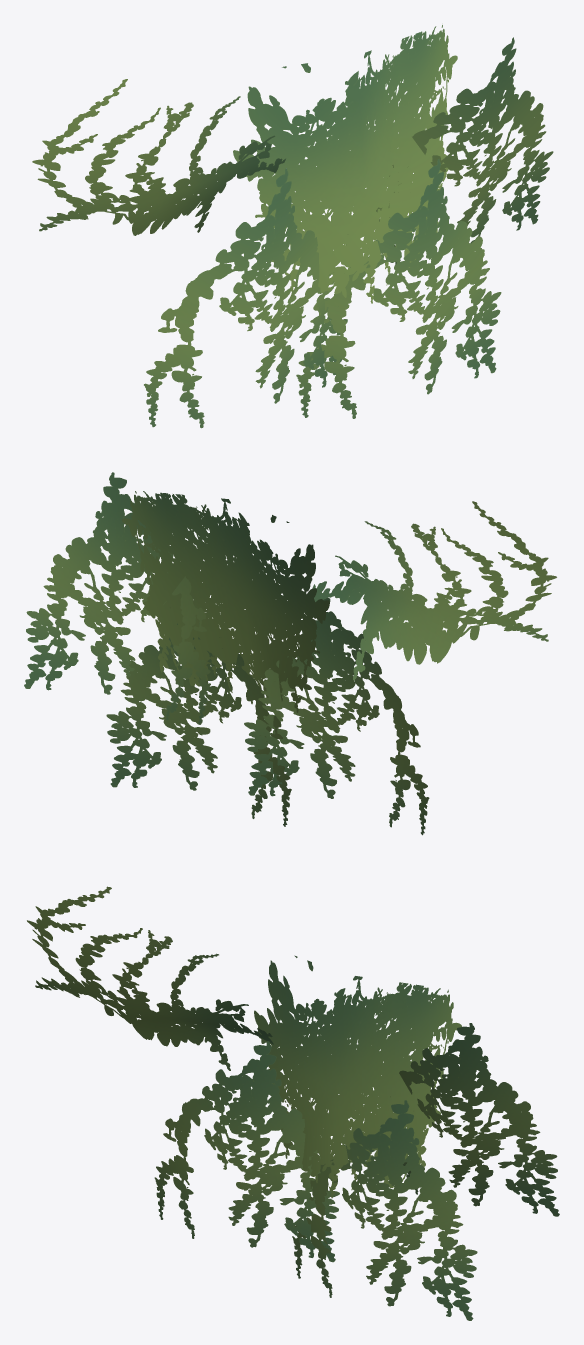
The model's file is vineA.fbx.
The picture shows the model from 3 angles, top to bottom: view 1: azimuth 30°, elevation 25°; view 2: azimuth 150°, elevation 25°; view 3: azimuth 330°, elevation 25°; orthographic projection. The views are drawn at different scales.
Visible parts, largest first — view 1: vine1, vine4, vine, vine2, vine5; view 2: vine1, vine5, vine, vine2, vine4; view 3: vine1, vine4, vine, vine5, vine2.
Part boxes in pixels (x1,y1,x2,y2): vine1: (233,25,457,303); vine4: (296,159,501,418); vine: (144,168,347,428); vine2: (32,79,285,235); vine5: (376,37,553,264); vine1: (122,491,329,712); vine5: (24,472,210,724); vine: (244,598,429,835); vine2: (312,501,556,680); vine4: (106,623,291,826); vine1: (254,955,461,1198); vine4: (292,1100,477,1320); vine: (154,1041,339,1262); vine5: (376,1023,559,1216); vine2: (27,886,273,1070).
Bounding box in the file's own units: 566 × 385 × 80.42.
Materials: 1 (1 with a texture image).
